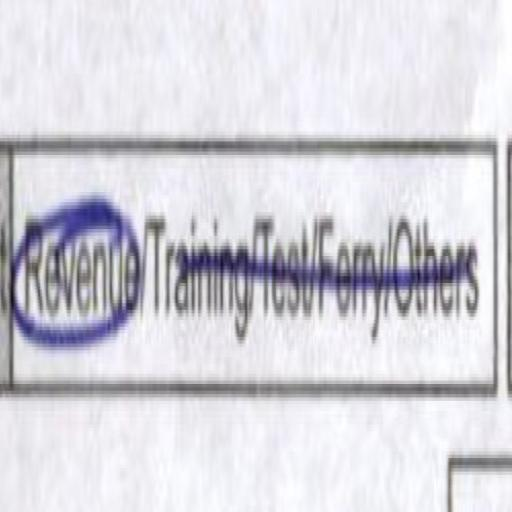check: (8, 138, 141, 409)
